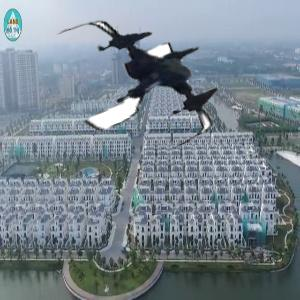drone: (54, 1, 220, 167)
